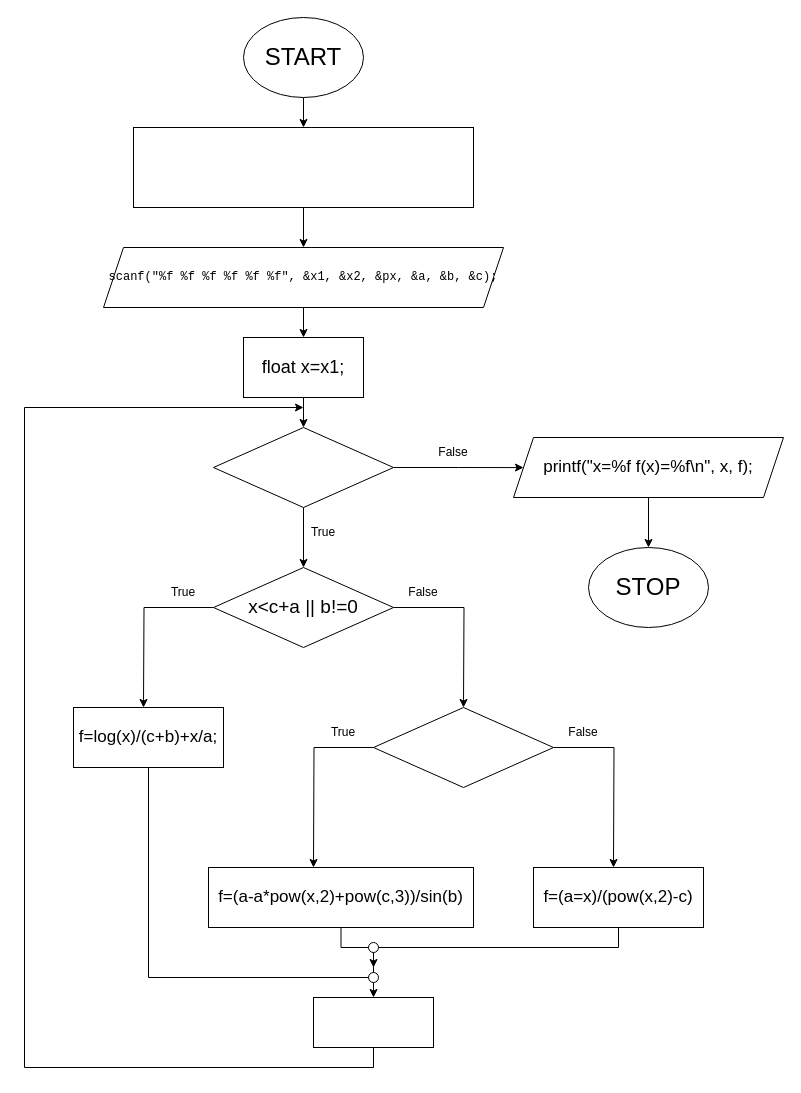
Image size: 801x1093. Some labels were removed from this diagram. The centre of each missing label's shape, as x and y in pixels:
"float x1 = 0 , x2 = 0 , px = 0 , a = 0 , b = 0 , c = 0 , f = 0 ;" belongs at point 303,167.
"x+=px;" belongs at point 373,1022.
"x<=x2;" belongs at point 303,467.
"x>c+a && b==0" belongs at point 463,747.
